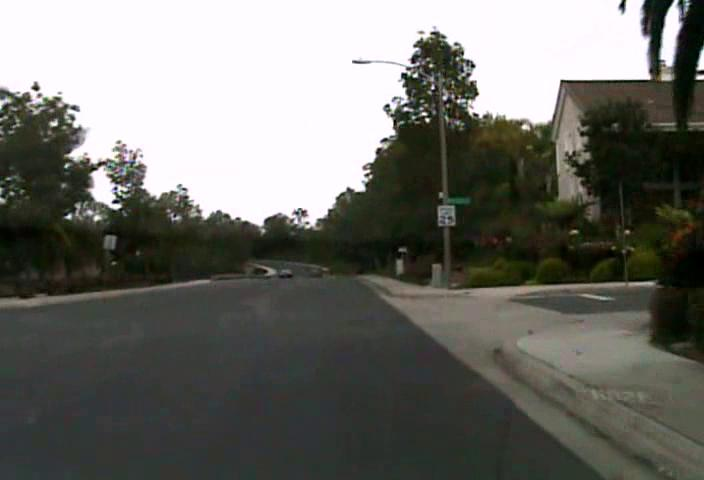speedLimit25: (437, 204, 456, 227)
